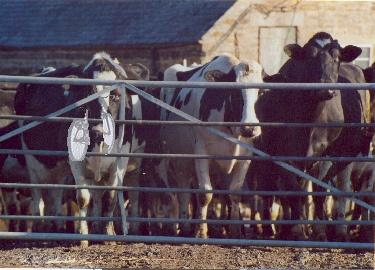tampered: (68, 96, 115, 161)
